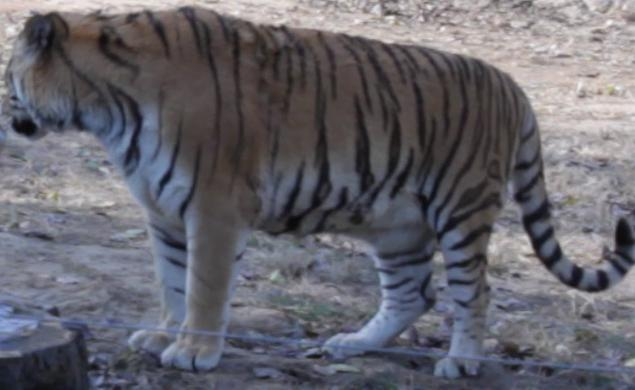tiger: (4, 5, 634, 377)
